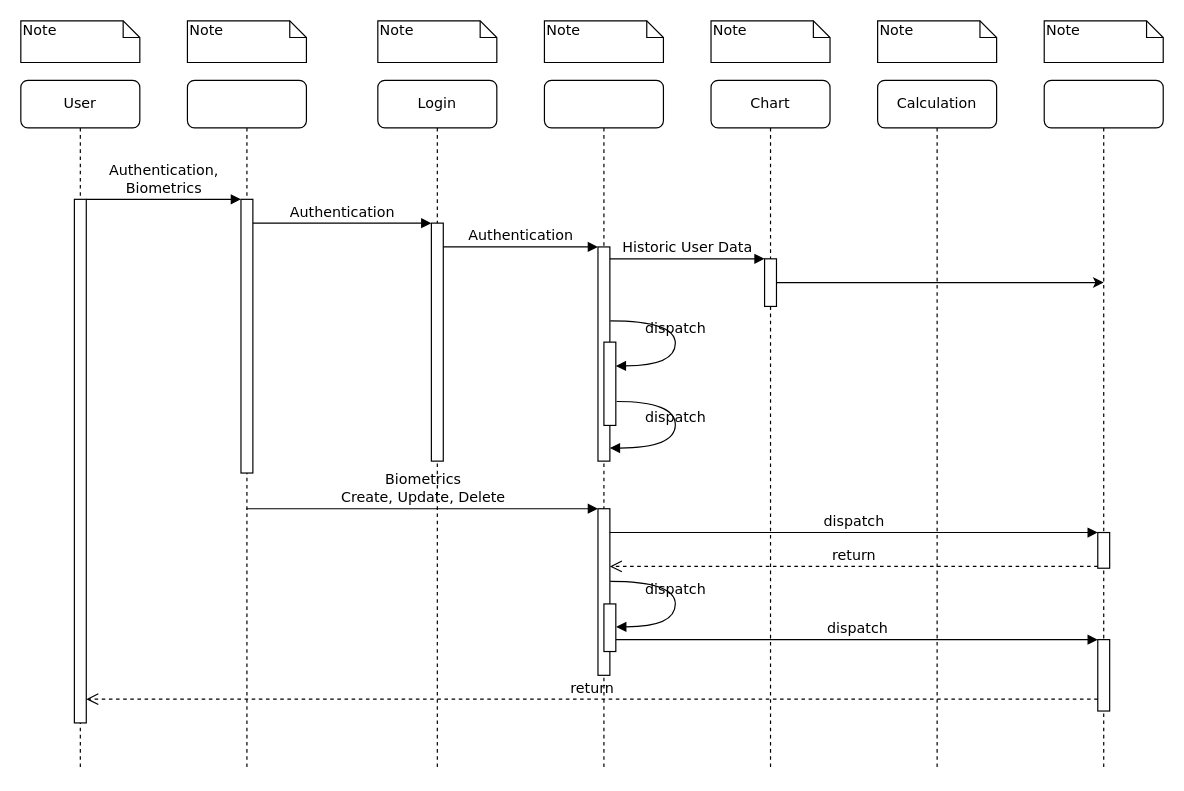
Some shapes in this 1184 by 791 pixel diagram are drawn without their labels. The box of each missing label's shape, as (x1, y1, x2, y2) in pixels:
Database: (543, 79, 663, 771)
Display: (1043, 79, 1163, 771)
Input: (186, 79, 306, 771)
